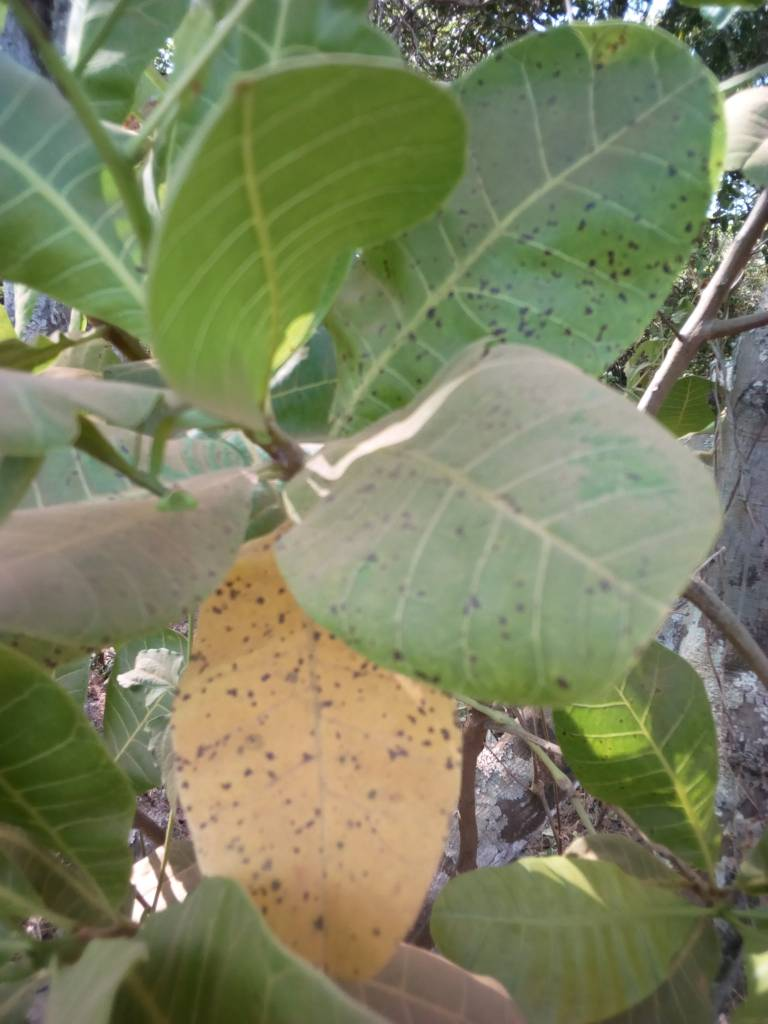Anthracnose: (290, 369, 716, 686), (166, 572, 461, 932), (455, 25, 743, 357)
